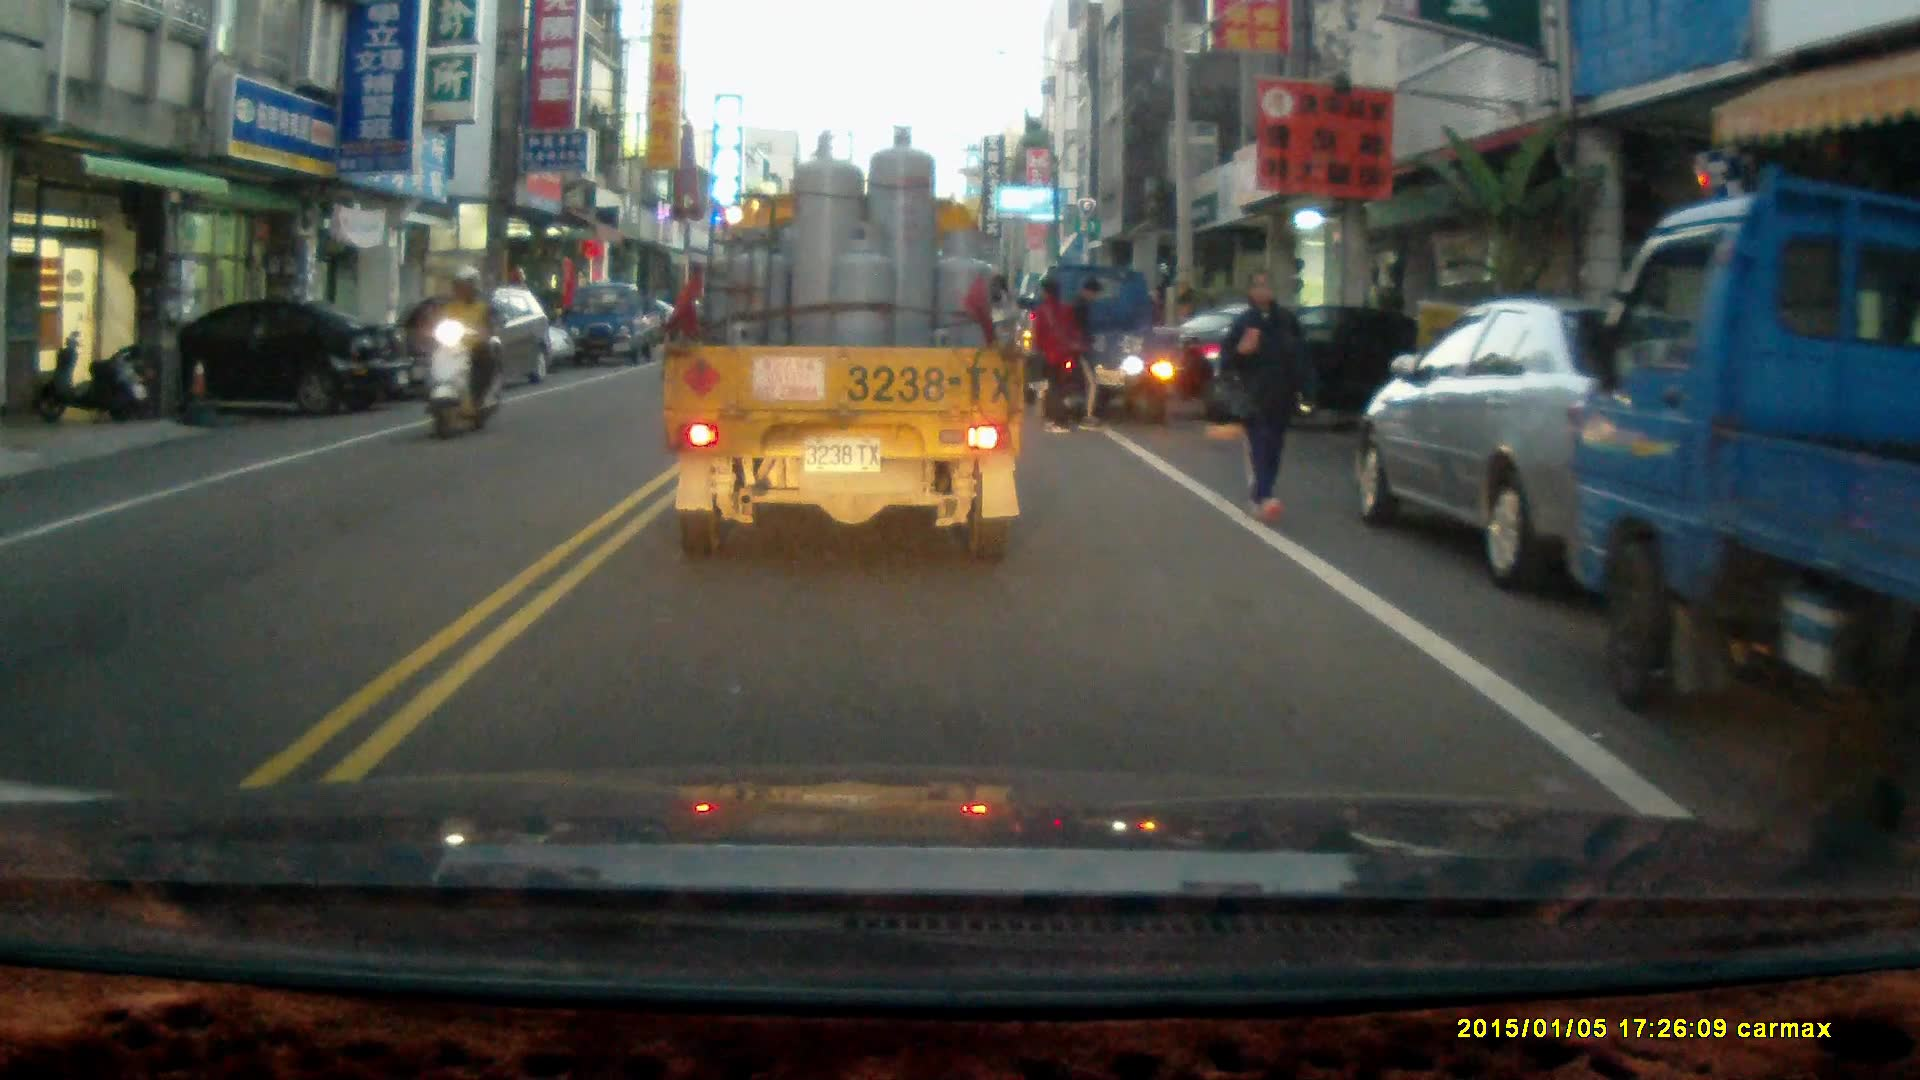pedestrian: (1218, 264, 1318, 526), (1037, 271, 1104, 429), (1025, 275, 1082, 429)
rider: (421, 262, 503, 442)
vehicle: (1572, 176, 1920, 816), (663, 124, 1028, 568), (1356, 295, 1736, 593), (1170, 297, 1480, 443), (87, 296, 406, 418), (1019, 261, 1185, 421), (394, 287, 554, 398), (569, 279, 664, 368)
